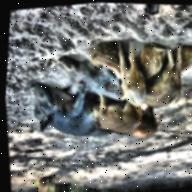boar: (50, 38, 160, 104), (23, 80, 121, 148), (134, 46, 192, 115), (110, 33, 154, 115), (88, 95, 144, 135)
